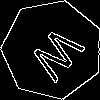W: (27, 24, 94, 90)
